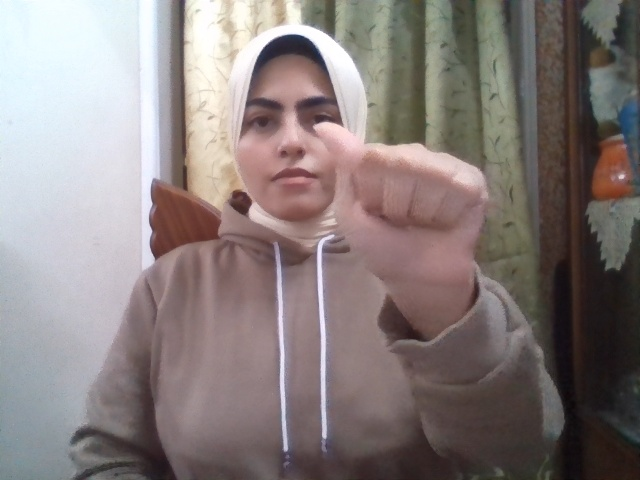A: (315, 122, 487, 290)
